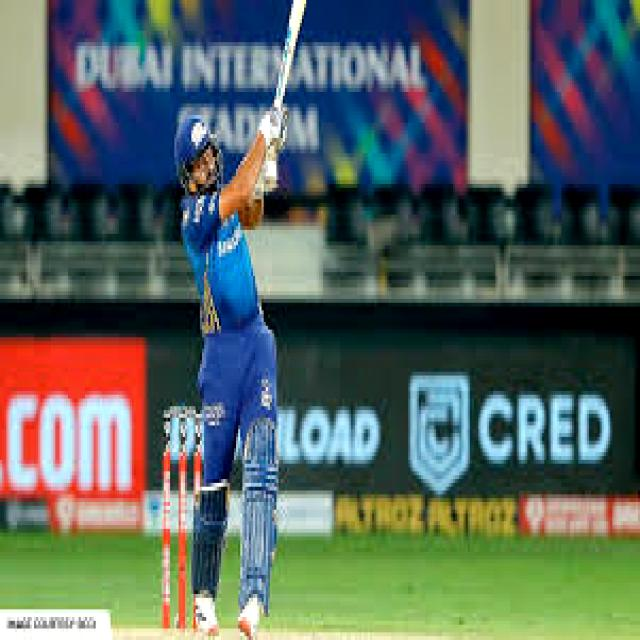toe: (291, 0, 311, 18)
